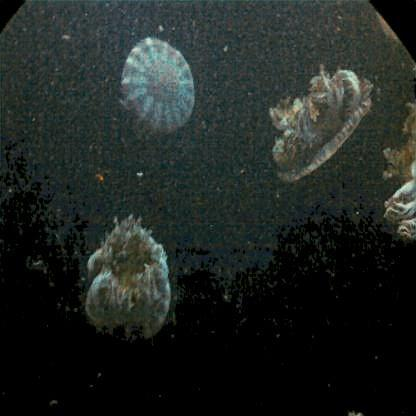Fish: (269, 71, 372, 185), (84, 220, 172, 344), (118, 41, 196, 132), (384, 106, 416, 236)
